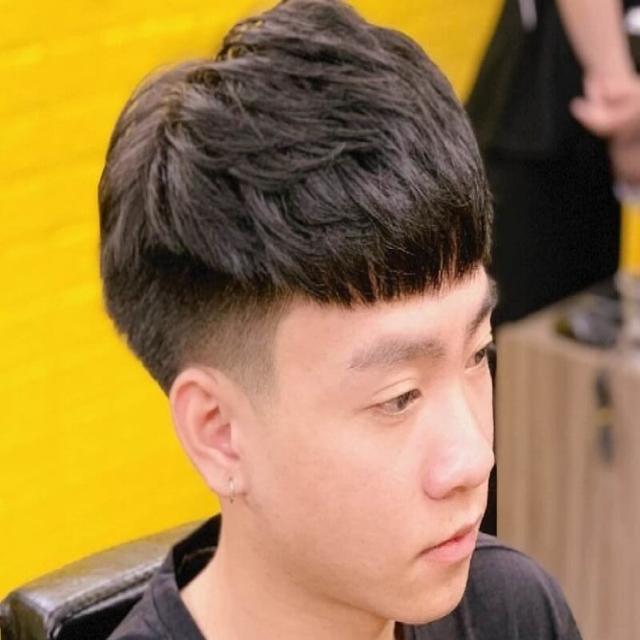Nonhelmet: (97, 0, 532, 631)
